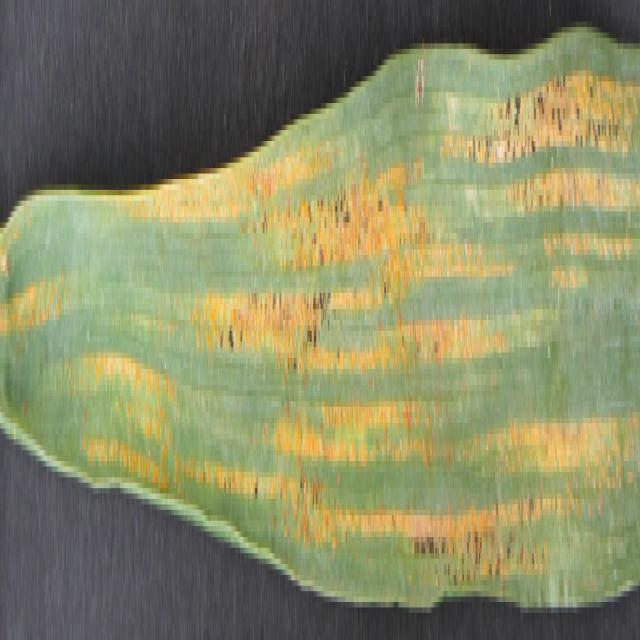leaf rust: (1, 38, 637, 586)
